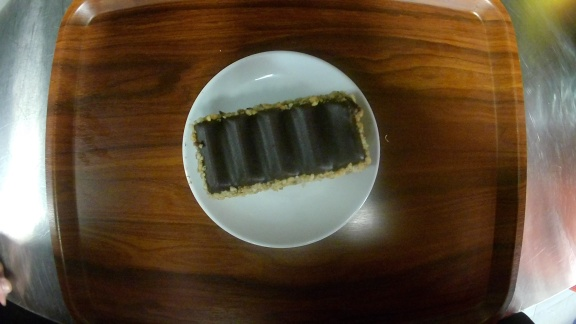muzlupasta: (183, 49, 380, 247)
